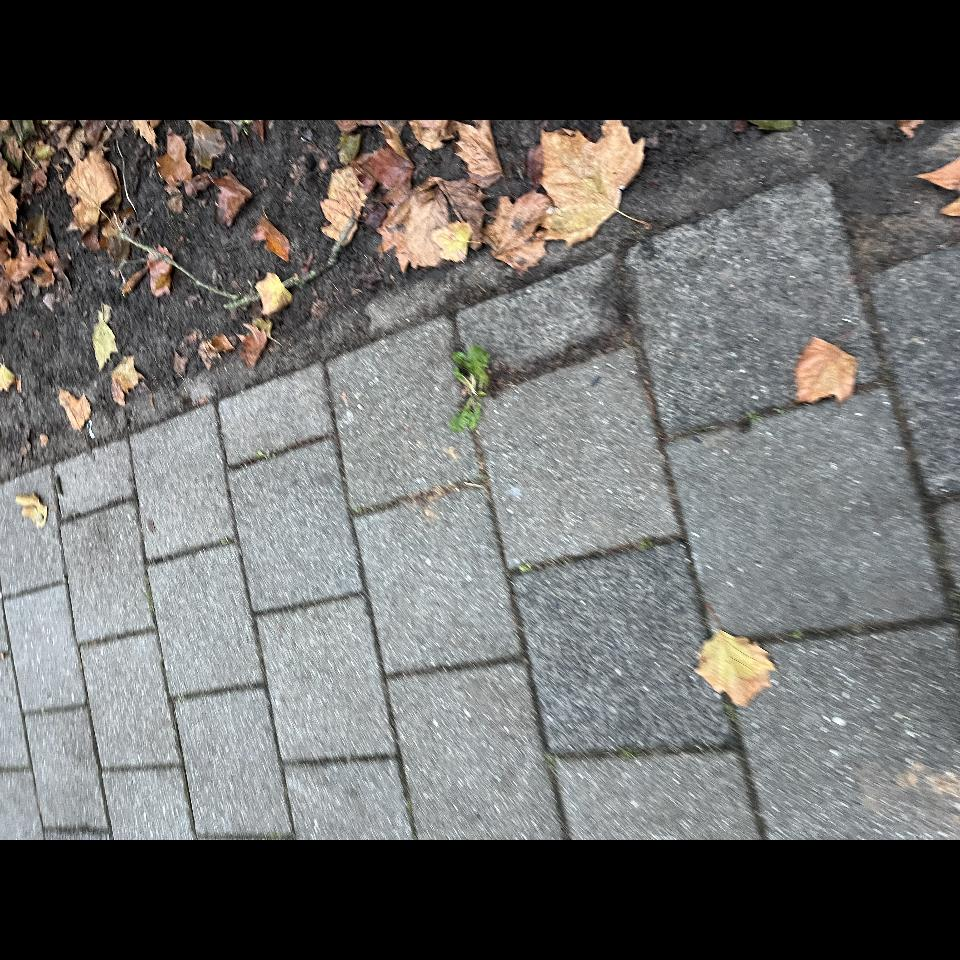weed: (398, 573, 494, 613)
